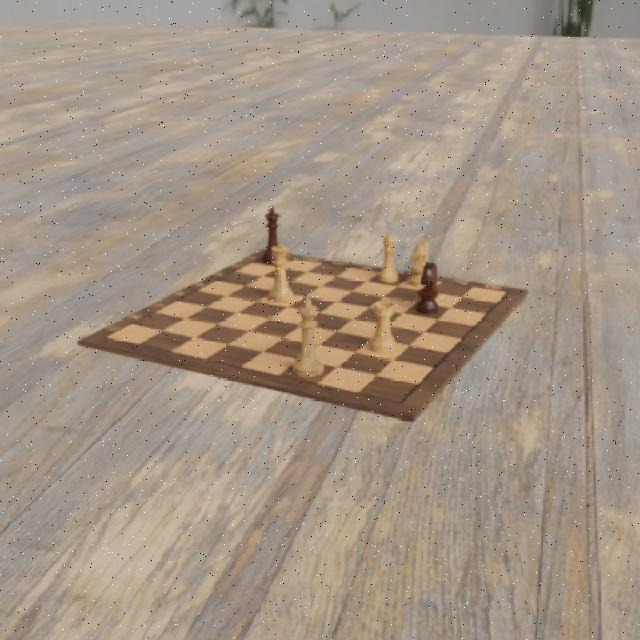black-king: (260, 203, 286, 267)
black-knight: (413, 260, 443, 316)
white-bishop: (374, 230, 399, 285)
white-king: (289, 295, 326, 380)
white-knight: (408, 238, 432, 290)
white-queen: (267, 241, 295, 307)
white-rook: (366, 297, 400, 354)
